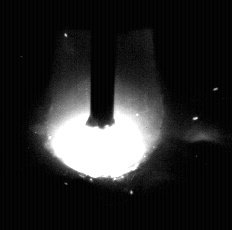arame: (91, 0, 116, 129)
poca: (44, 0, 162, 230)
